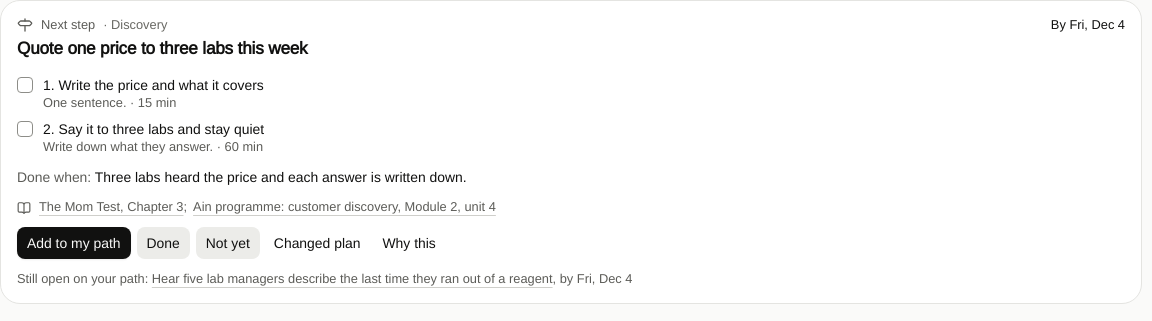
Test case: TurnStepCard › a step offered as the answer to what they asked › is added to the path in one press, first among its actions
Expected: the text "Next step" is shown, top-left (41, 17), bottom-right (95, 33)
Click the button "Add to my path" at (74, 243), box top-left (17, 227), bottom-right (130, 259)
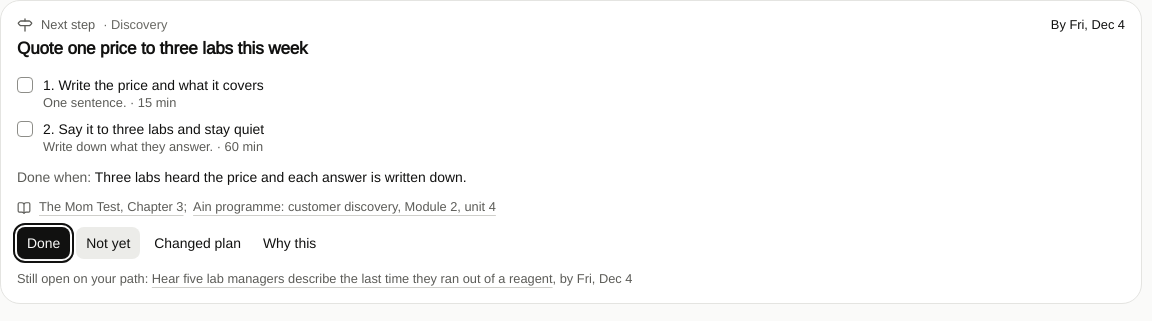
Expected: the button "Done" is enabled, top-left (17, 227), bottom-right (70, 259)
Result: the button "Add to my path" is gone
